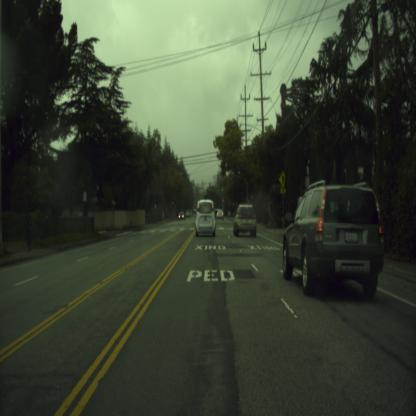Red: (206, 186, 209, 192), (172, 200, 174, 209), (222, 198, 224, 204)
